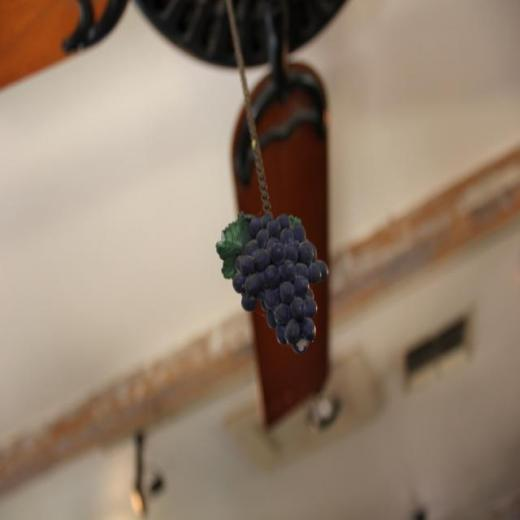Orange: (234, 215, 328, 351)
